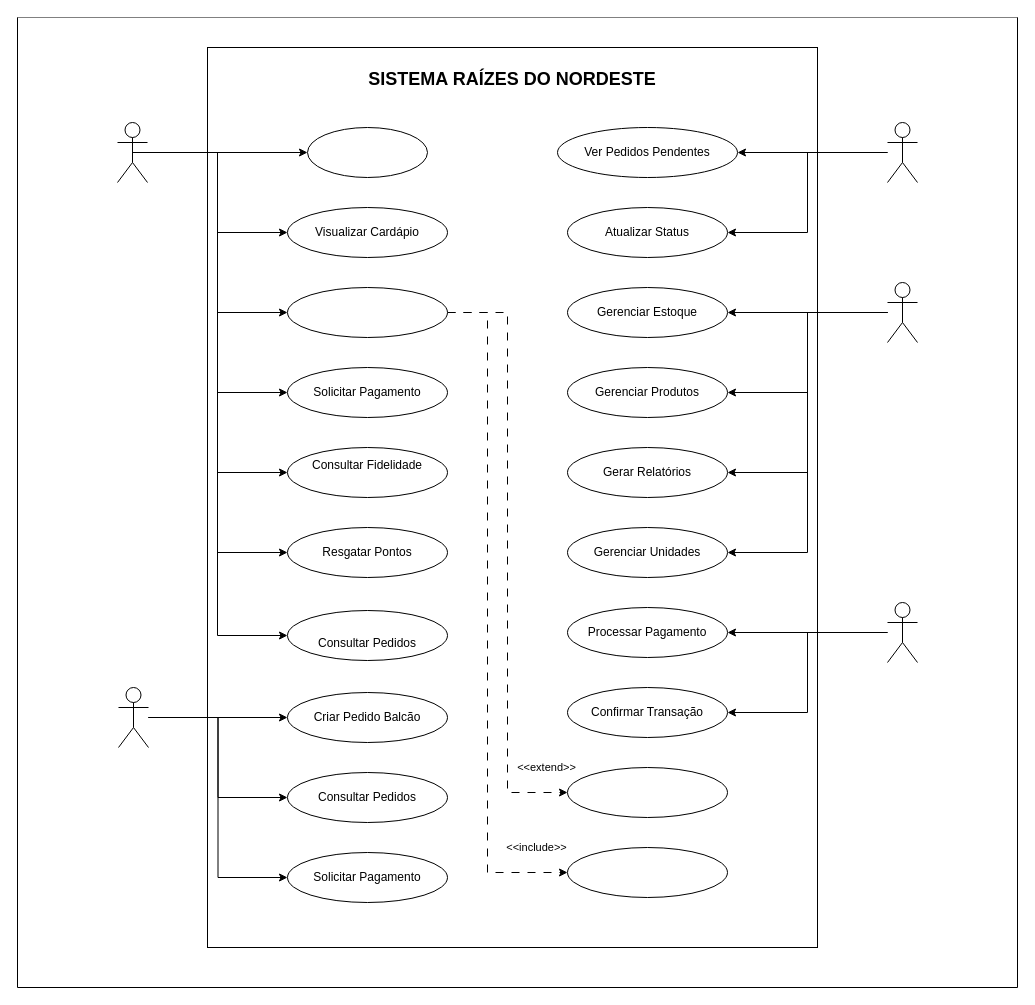
The diagram is 1035 pixels wide and 1005 high, and some of its shapes have lost their labels. Each missing label, with the centre of its shape:
"Aplicar Cupom" goes at (647,792).
"Atendente" goes at (133,717).
"Cliente" goes at (132,152).
"Cozinha" goes at (902,152).
"Fazer Login" goes at (367,152).
"Gateway" goes at (902,632).
"Gerente" goes at (902,312).
"Realizar Pedido" goes at (367,312).
"Validar Estoque" goes at (647,872).
